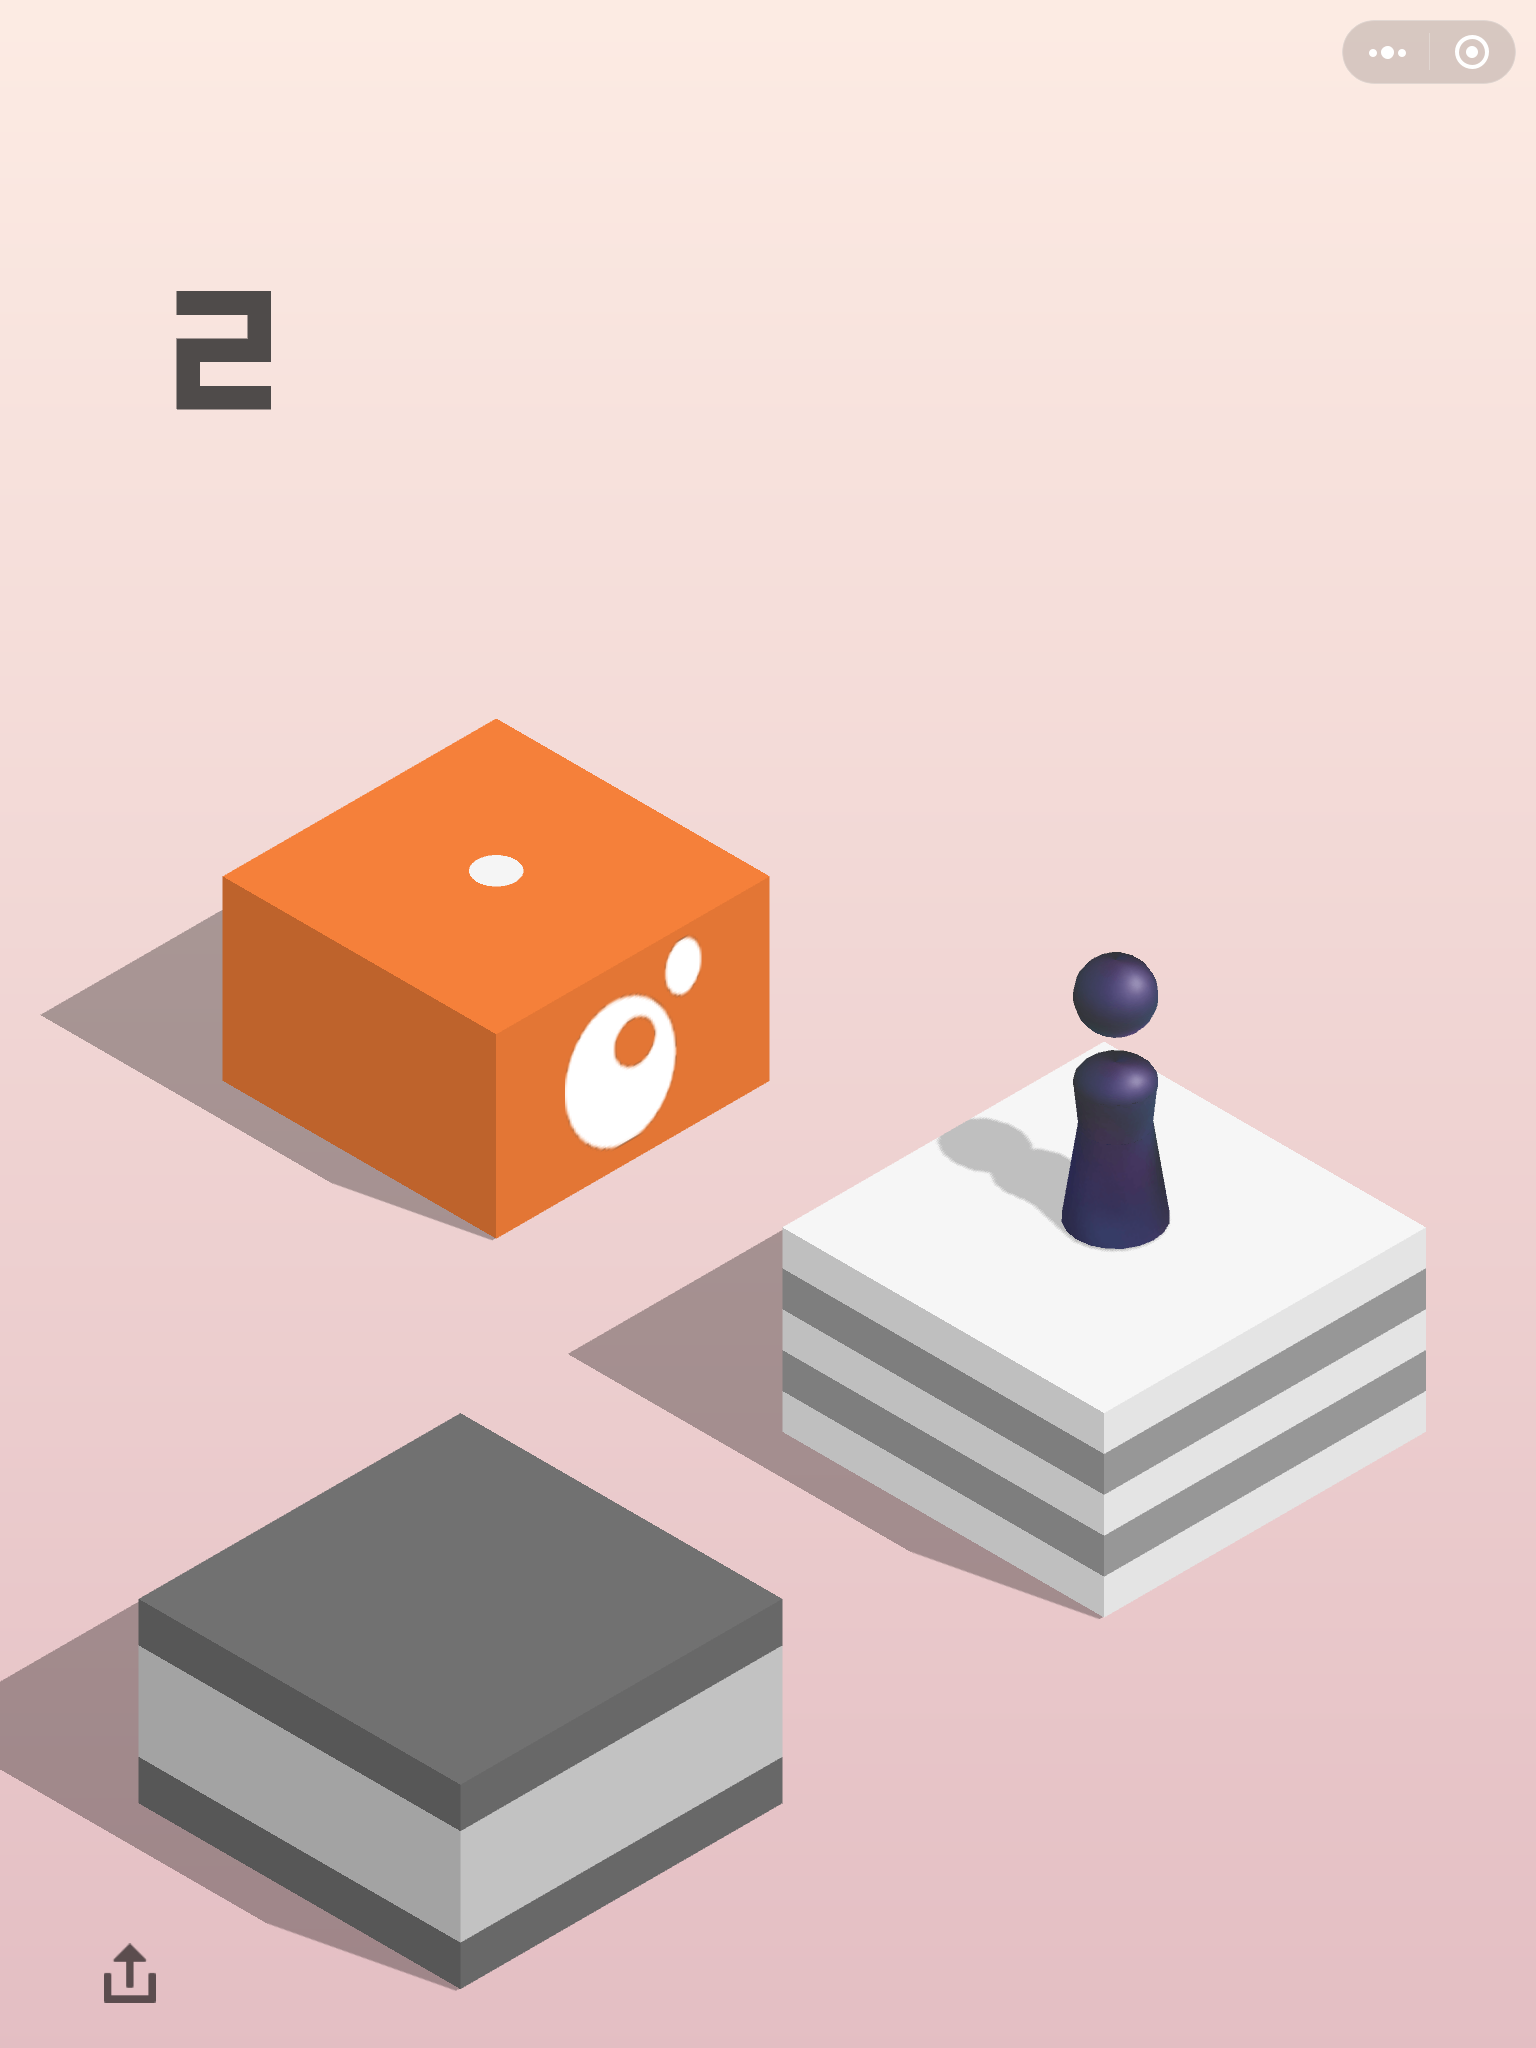f: (131, 1409, 792, 1995), (773, 1035, 1433, 1619), (216, 713, 774, 1240)
r: (1055, 947, 1175, 1250)
